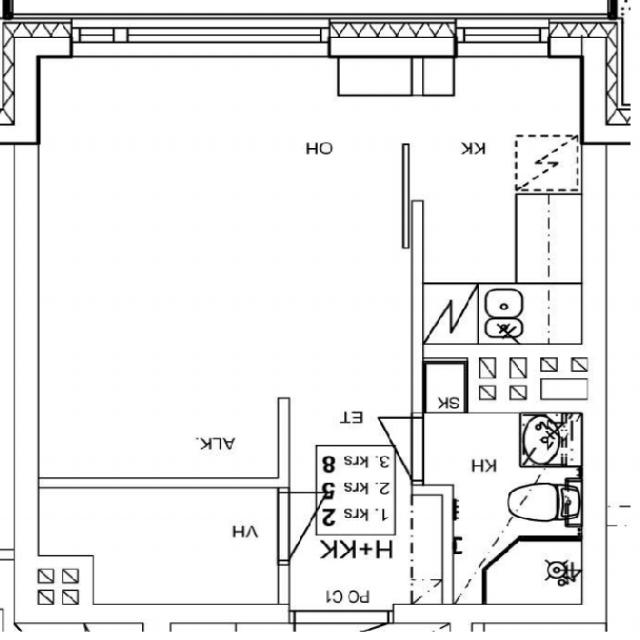door: (277, 492, 367, 560), (339, 416, 423, 480)
